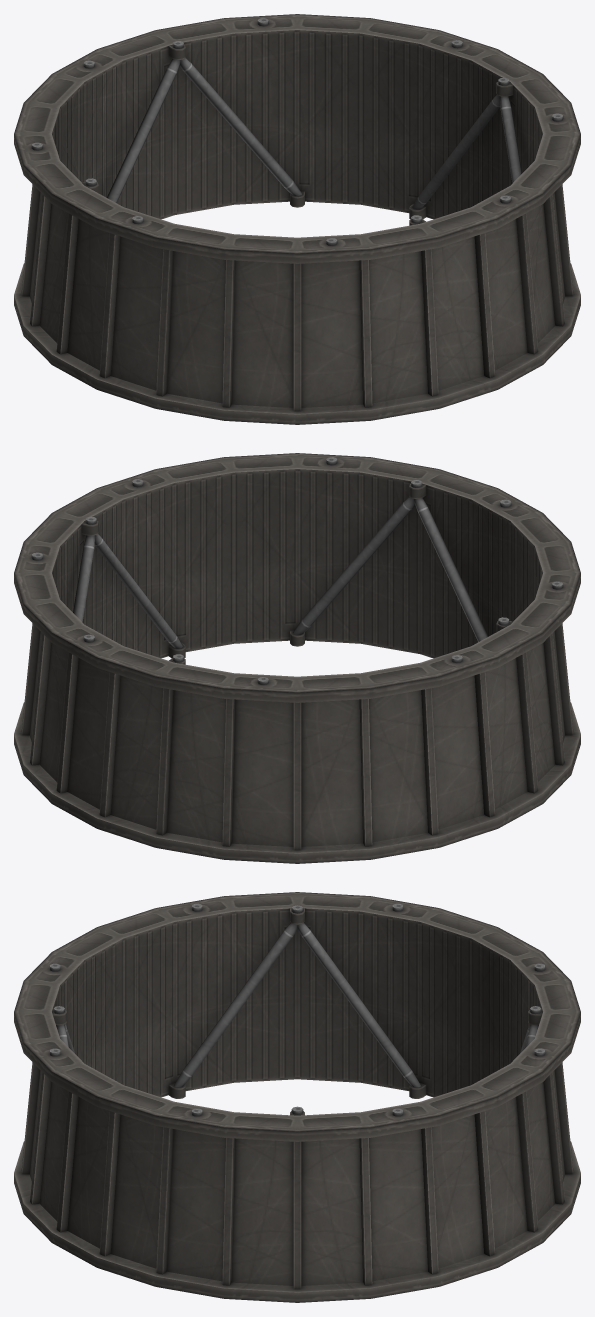
File: sargas_decoupler_s1p5_2.obj
The picture shows the model from 3 angles, top to bottom: view 1: azimuth 30°, elevation 25°; view 2: azimuth 150°, elevation 25°; view 3: azimuth 270°, elevation 25°; orthographic projection.
Parts seen in each view (by area): view 1: 2; view 2: 2; view 3: 2.
Part boxes in pixels (x1,y1,x2,y2): 2: (14, 14, 580, 424); 2: (14, 453, 580, 863); 2: (14, 892, 580, 1302).
Bounding box in the file's own units: 1.88 × 0.6375 × 1.88.
Materials: 1 (1 with a texture image).
